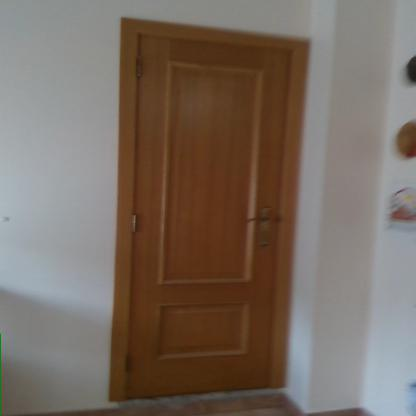door: (139, 38, 288, 404)
hinged: (125, 352, 133, 373), (130, 214, 138, 233), (135, 57, 141, 80)
lever: (245, 214, 282, 224)
